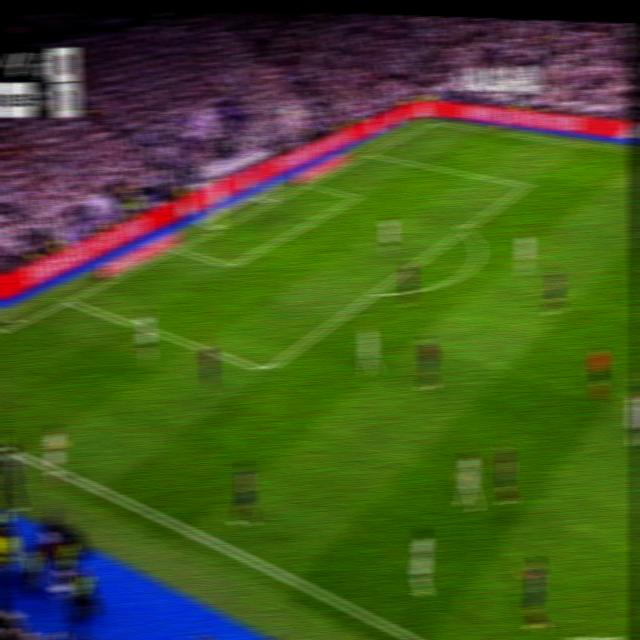bigarea_bottom_inner: (257, 357, 274, 382)
bigarea_bottom_outter: (60, 291, 76, 307)
bigarea_top_inner: (520, 177, 531, 190)
bigarea_top_outter: (362, 146, 375, 158)
bottom_arc_area_intersection: (367, 284, 381, 300)
corner: (426, 117, 439, 124)
smallarea_bottom_inner: (223, 255, 238, 274)
smallarea_bottom_outter: (170, 241, 182, 254)
smallarea_top_inner: (349, 190, 361, 202)
top_arc_area_intersection: (457, 220, 472, 236)
